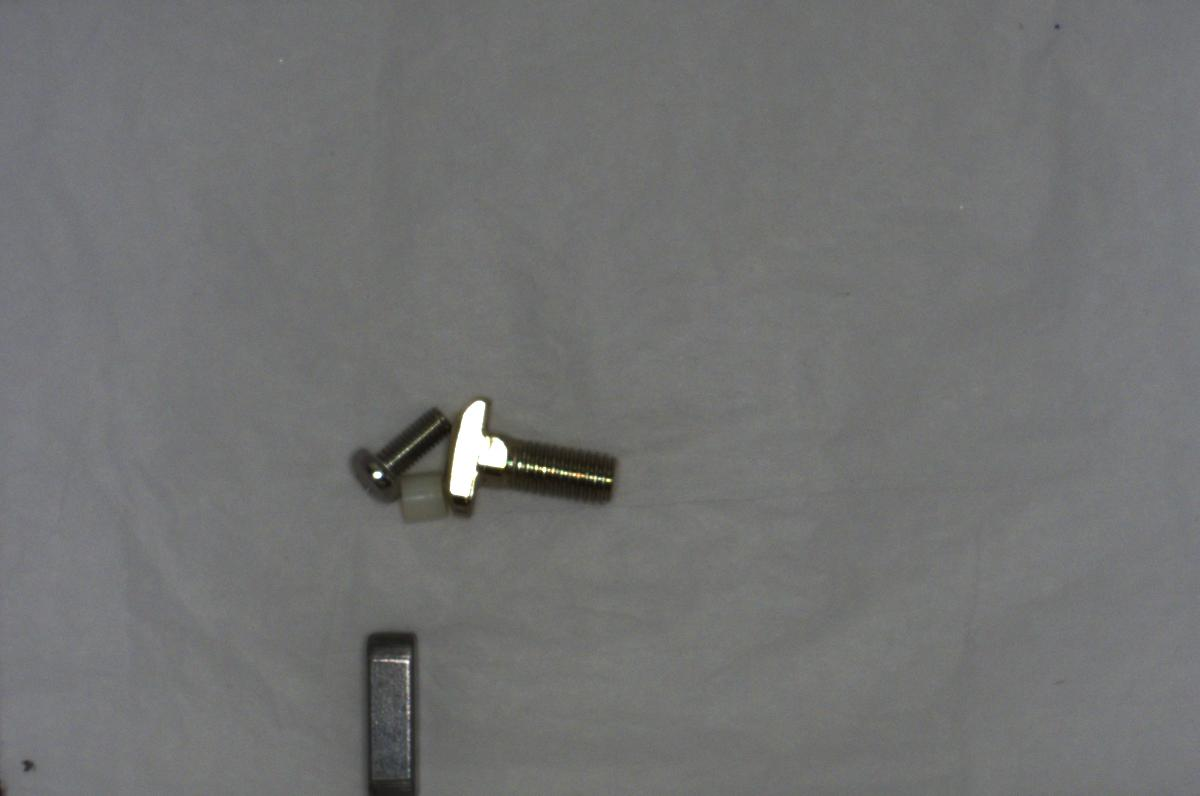Keybar: (342, 623, 430, 795)
Plastic cushion pillar: (393, 467, 451, 534)
Round head screw: (346, 400, 452, 501)
T-shaped screw: (438, 388, 622, 520)
